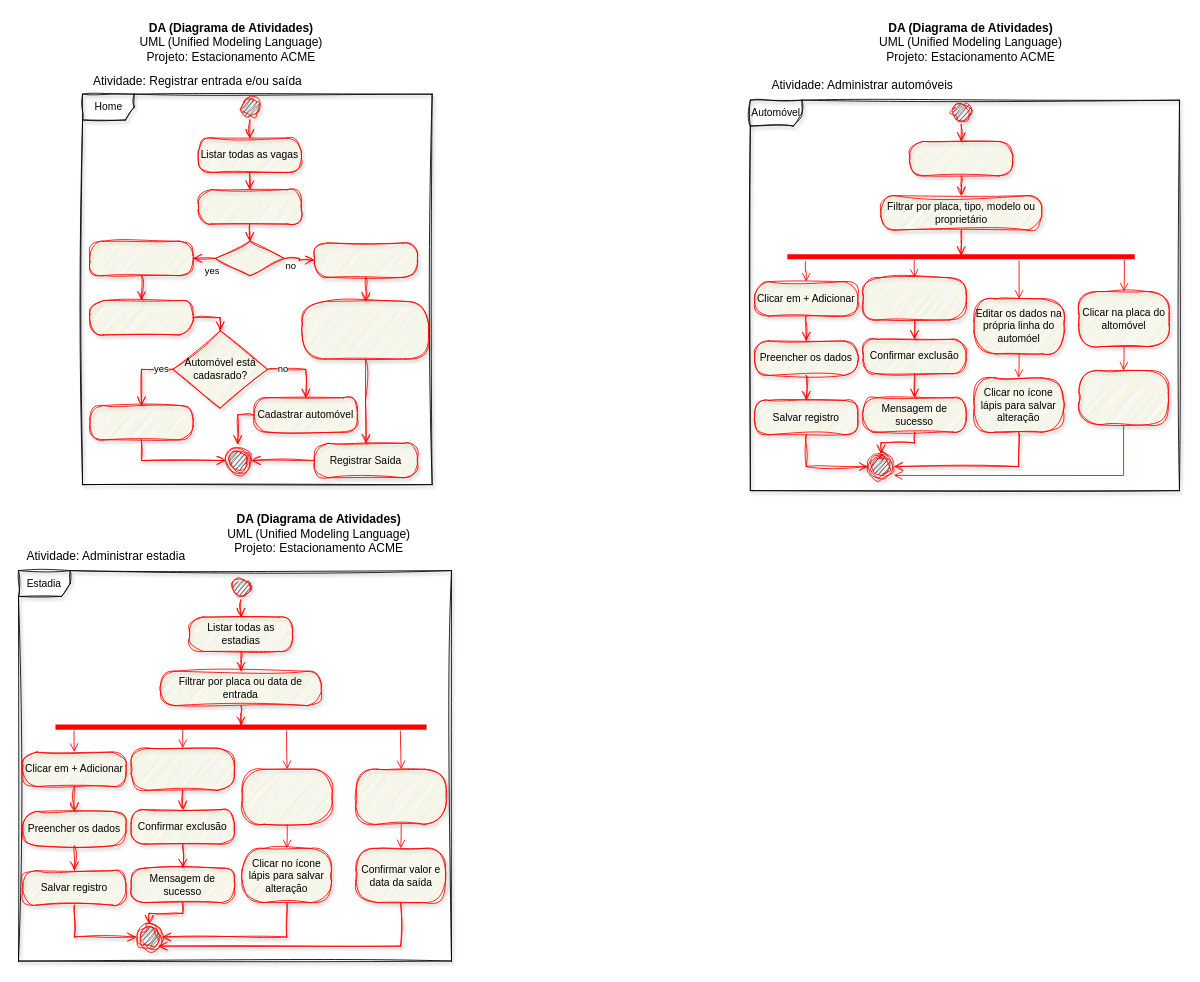
The diagram is 1200 pixels wide and 982 high, and some of its shapes have lost their labels. The centre of each missing label's shape, as x and y in pixels:
"Clicar na lixeira ao lado de um dos automóveis" belongs at point 915,299.
"Clicar na lixeira ao lado de uma das estadias" belongs at point 183,770.
"Clicar na vaga" belongs at point 250,207.
"Clicar no ícone de porta na linha da estadia" belongs at point 402,797.
"Confirmar data saída e valor, podendo alterar para dar desconto ou crescimo" belongs at point 366,331.
"Editar os dados na própria linha." belongs at point 288,797.
"Escolher automovel" belongs at point 142,259.
"Exibir restado do calculo do valor total" belongs at point 366,261.
"Listar todas os automóveis" belongs at point 961,159.
"Obter data e valor" belongs at point 142,318.
"Registrar Entrada" belongs at point 142,423.
"Vaga vazia" belongs at point 250,259.
"Ver os dados do automóvel e suas estadias" belongs at point 1124,398.
